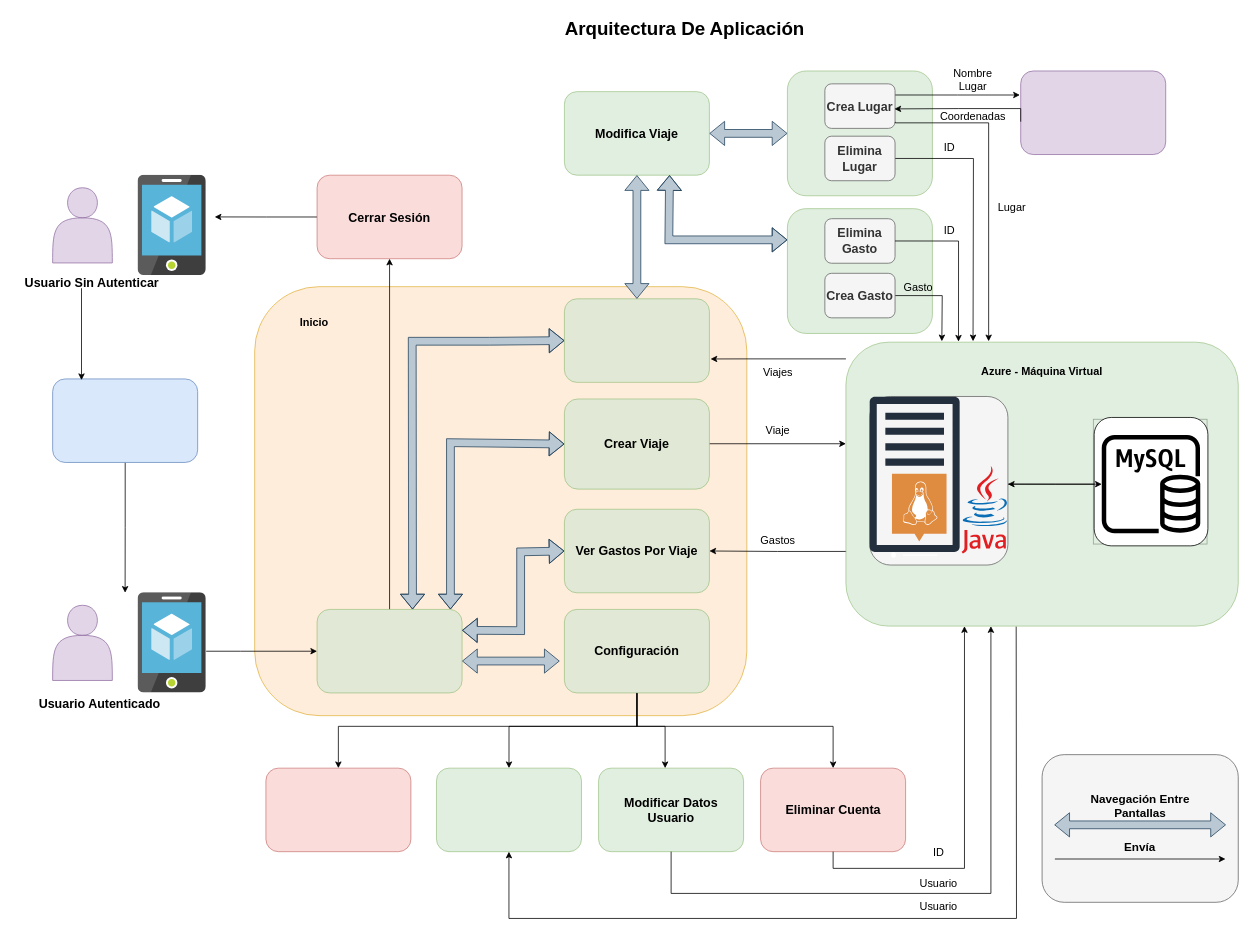
Some shapes in this 1252 by 938 pixel diagram are drawn without their labels. The shapes that lost their labels are listed below. From the top down, each one's box as (x1, y1, x2, y2) in pixels, then its label:
(1020, 70, 1166, 155): API Places Google
(564, 298, 709, 382): Listar Viajes
(52, 378, 198, 462): Login
(316, 609, 462, 693): Acceso a inicio App
(265, 767, 411, 852): Salir App
(436, 767, 581, 852): Ver Datos Usuario
